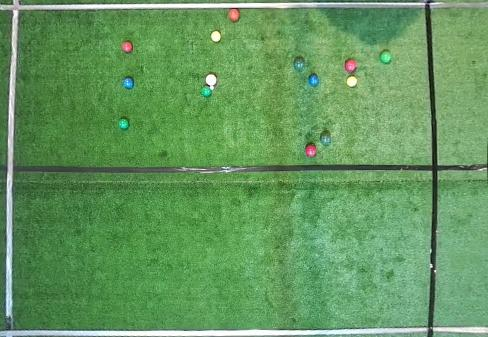blue: (123, 78, 134, 89), (309, 75, 319, 87)
green: (293, 58, 305, 71), (320, 132, 331, 146), (380, 50, 391, 63), (118, 119, 129, 130), (201, 86, 211, 97)
red: (305, 144, 317, 157), (228, 9, 240, 22), (345, 59, 356, 72), (206, 74, 217, 85), (122, 42, 133, 53)
vline: (424, 0, 487, 336), (0, 0, 21, 336)
white: (210, 85, 214, 90)
yellow: (211, 31, 221, 42), (347, 76, 357, 87)
